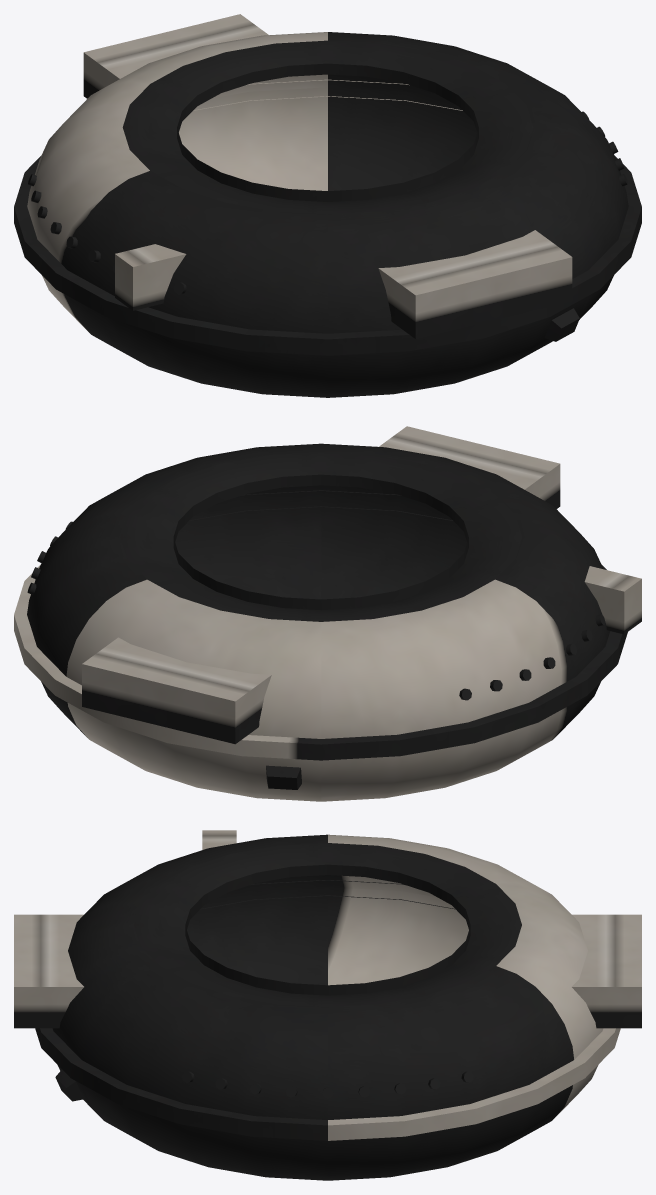
File: 1f_avionics_s0_1.obj
3 renders of one model, top to bottom at view 1: azimuth 30°, elevation 25°; view 2: azimuth 150°, elevation 25°; view 3: azimuth 270°, elevation 25°, orthographic. The views are drawn at different scales.
Parts seen in each view (by area): view 1: mesh1; view 2: mesh1; view 3: mesh1.
Part boxes in pixels (x1,y1,x2,y2): mesh1: [14, 14, 641, 397]; mesh1: [14, 426, 641, 801]; mesh1: [14, 830, 641, 1180].
Bounding box in the file's own units: 1.3 × 0.4 × 1.38.
